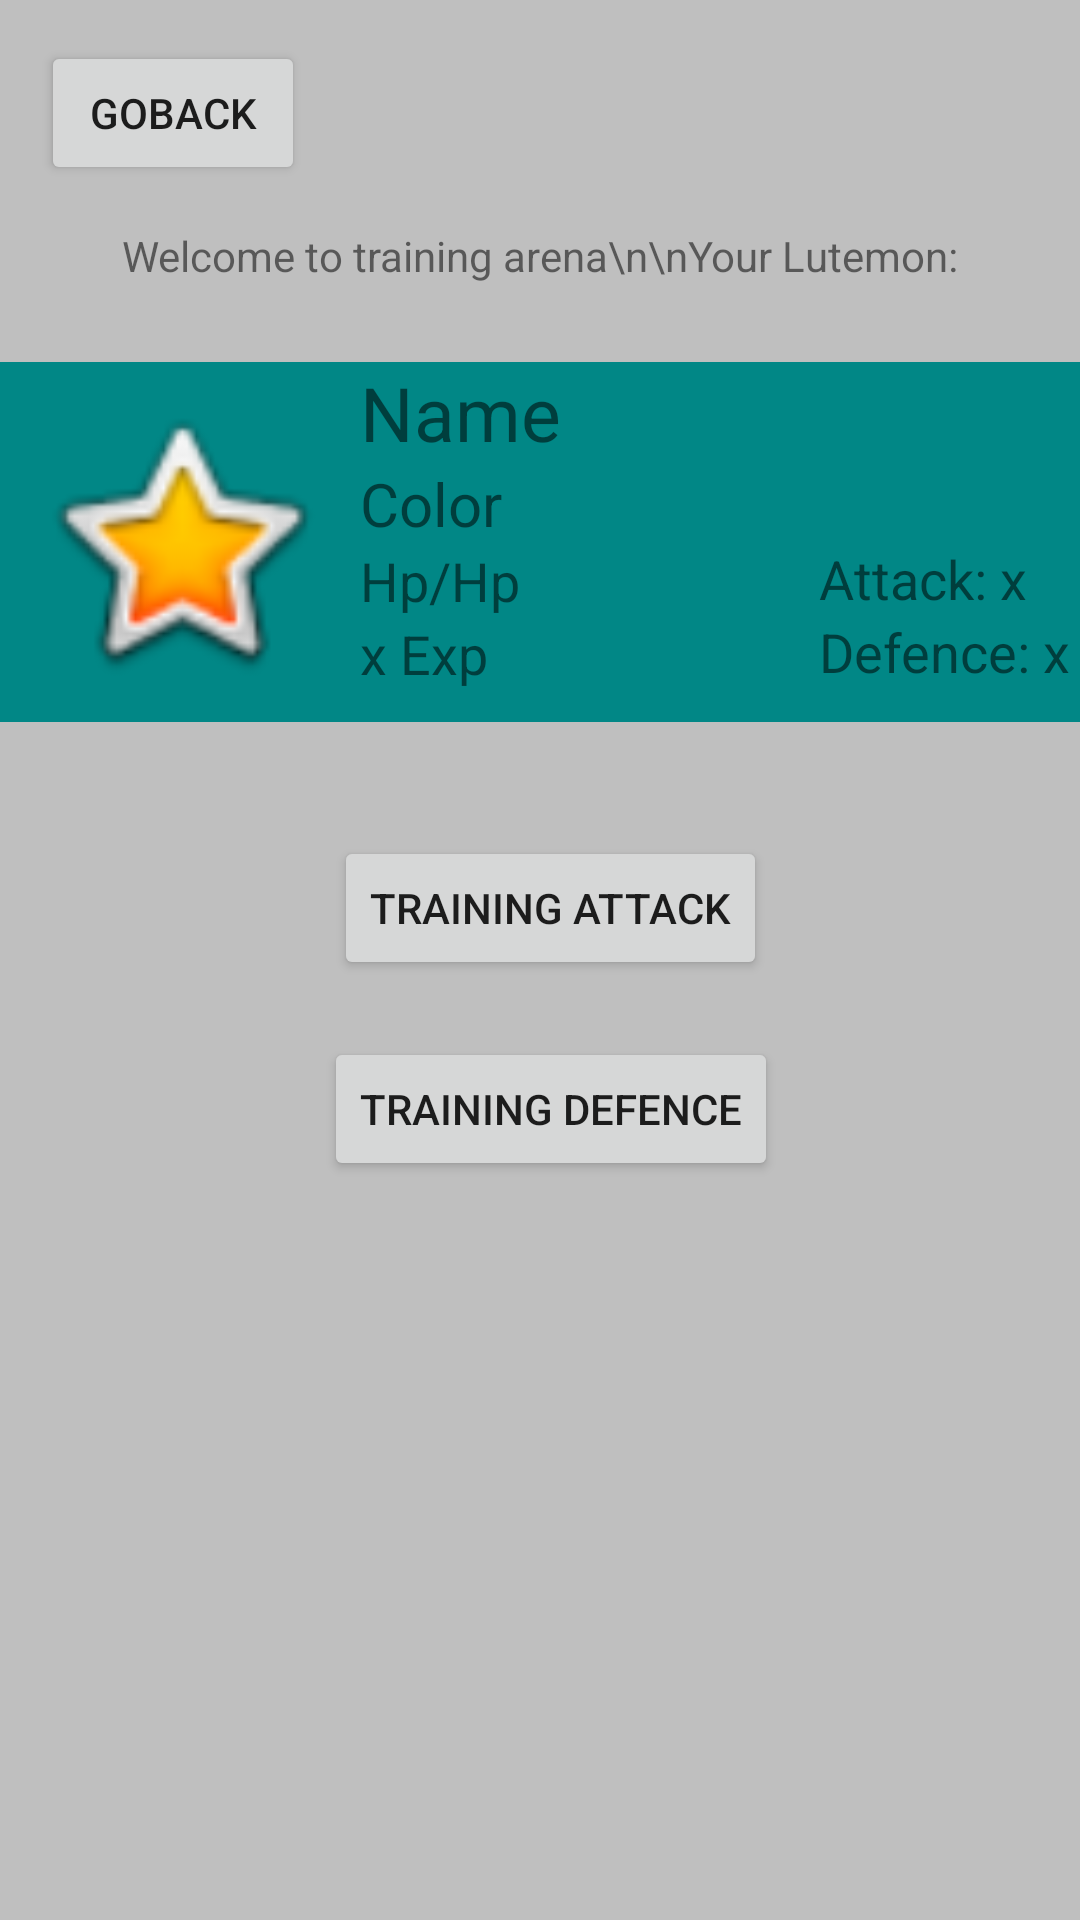

Point at icon controls on the screen. Image size 1080px x 1920px, points as point (x, y).
star on: point (183, 545)
